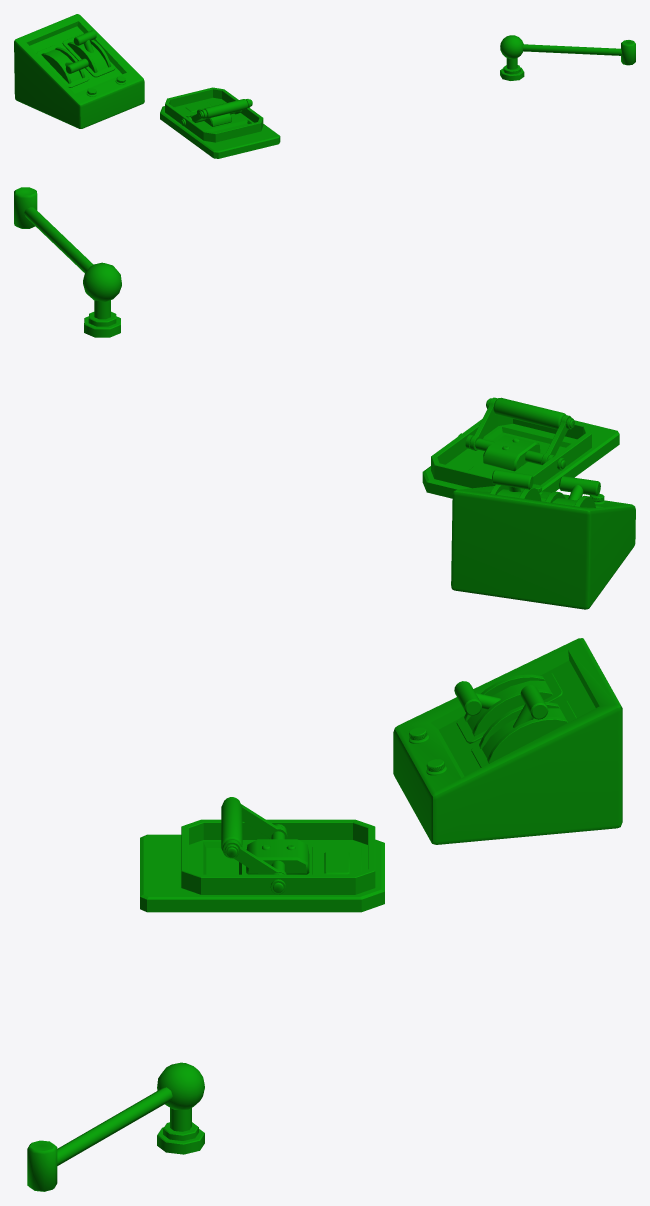
File: levier_grp.fbx
3 views of the same model, one above another, from view 1: azimuth 30°, elevation 25°; view 2: azimuth 150°, elevation 25°; view 3: azimuth 270°, elevation 25° (orthographic). The views are drawn at different scales.
Visible parts, largest first — view 1: levier_msh, levier_1_msh, handle_14_msh, levier_2_msh, levier_4_msh, levier_3_msh; view 2: levier_msh, levier_1_msh, handle_14_msh, levier_2_msh, levier_3_msh; view 3: levier_msh, levier_1_msh, handle_14_msh, levier_2_msh, levier_3_msh, levier_4_msh.
Part boxes in pixels (box(x1,y1,x2,y2)): levier_msh: box(14, 14, 144, 128); levier_1_msh: box(160, 87, 280, 158); handle_14_msh: box(500, 35, 635, 80); levier_2_msh: box(181, 99, 252, 126); levier_4_msh: box(175, 98, 221, 116); levier_3_msh: box(197, 105, 231, 126); levier_msh: box(451, 469, 635, 609); levier_1_msh: box(422, 414, 619, 498); handle_14_msh: box(14, 187, 121, 337); levier_2_msh: box(458, 397, 574, 470); levier_3_msh: box(483, 435, 540, 471); levier_msh: box(393, 638, 622, 844); levier_1_msh: box(140, 819, 384, 912); handle_14_msh: box(27, 1062, 204, 1191); levier_2_msh: box(221, 797, 287, 894); levier_3_msh: box(246, 839, 309, 874); levier_4_msh: box(312, 844, 361, 874).
Size of the model in its own units: 178 by 21.98 by 94.66.
